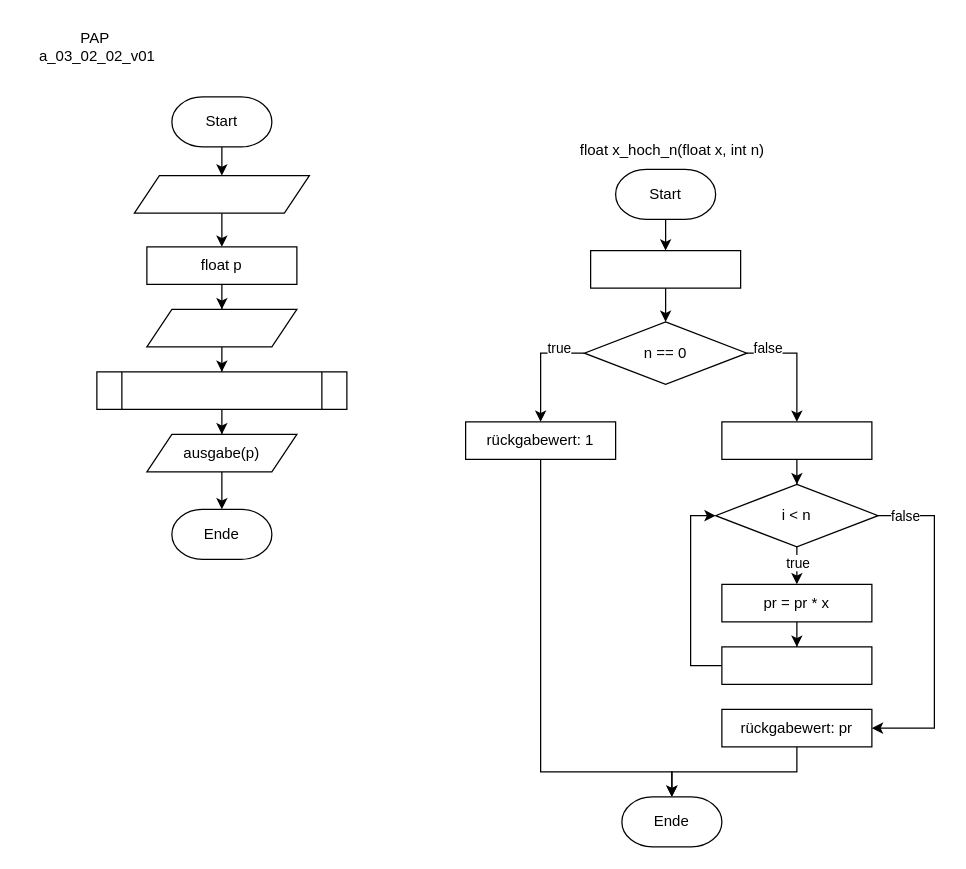
Some shapes in this 966 by 869 pixel diagram are drawn without their labels. The shapes that lost their labels are listed below. From the top down, each one's centre as x and y in pixels, then its label:
[221,193]: float x = eingabe()
[665,268]: float pr = 1
[221,327]: int n = eingabe()
[221,390]: p = x_hoch_n(x, n)
[796,440]: int i = 0
[796,665]: i = i + 1
